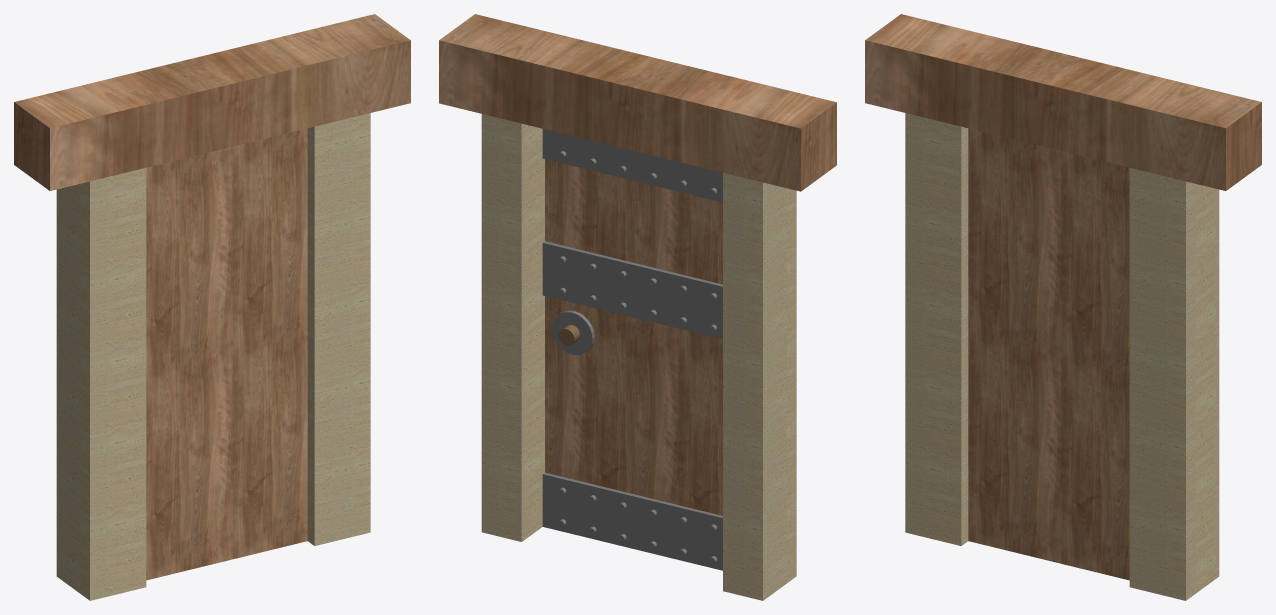
The model's file is single_doors.fbx.
The picture shows the model from 3 angles, left to right: view 1: azimuth 30°, elevation 25°; view 2: azimuth 150°, elevation 25°; view 3: azimuth 330°, elevation 25°; orthographic projection.
Visible parts, largest first — view 1: door_1, frame, lintel; view 2: frame, door_1, lintel, metal; view 3: door_1, frame, lintel.
Boxes of the visible parts, left/top/right/bottom form: door_1: left=146, top=128, right=307, bottom=580; frame: left=56, top=113, right=370, bottom=600; lintel: left=14, top=14, right=410, bottom=190; frame: left=481, top=114, right=796, bottom=600; door_1: left=545, top=159, right=722, bottom=515; lintel: left=439, top=14, right=836, bottom=191; metal: left=542, top=129, right=722, bottom=570; door_1: left=968, top=128, right=1129, bottom=580; frame: left=905, top=113, right=1219, bottom=600; lintel: left=865, top=14, right=1261, bottom=190.
Bounding box in the file's own units: 5.91 × 1.02 × 7.55.
Materials: 5 (4 with a texture image).
